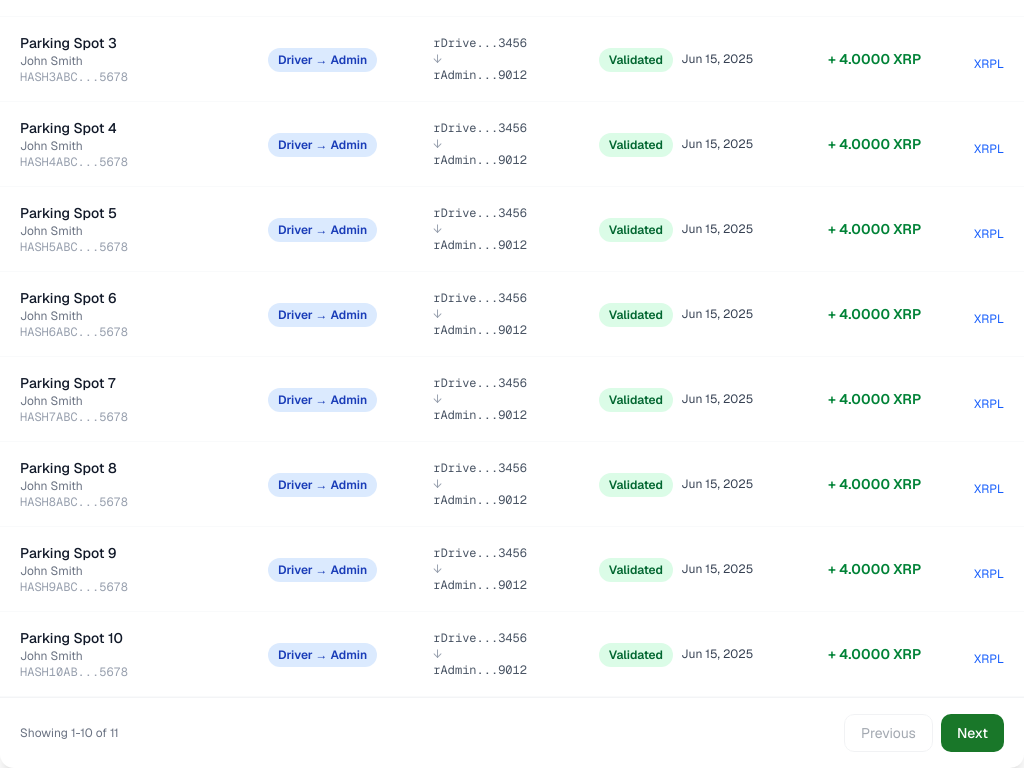
Scenario: TransactionTable Component › Pagination › Next navigates to page 2
(page scrolled)
Click the button "Next". click: click(972, 733)
box: left=941, top=714, right=1004, bottom=752
(page scrolled)
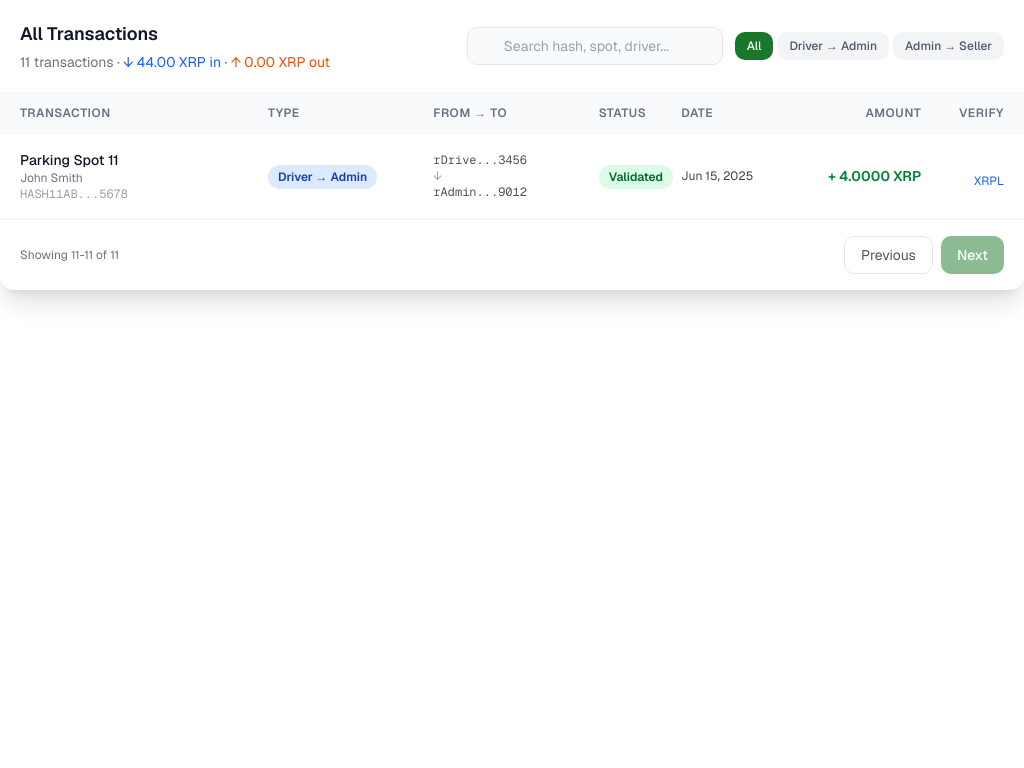
Expected: the text "Parking Spot 11" is shown, left=20, top=151, right=119, bottom=169
